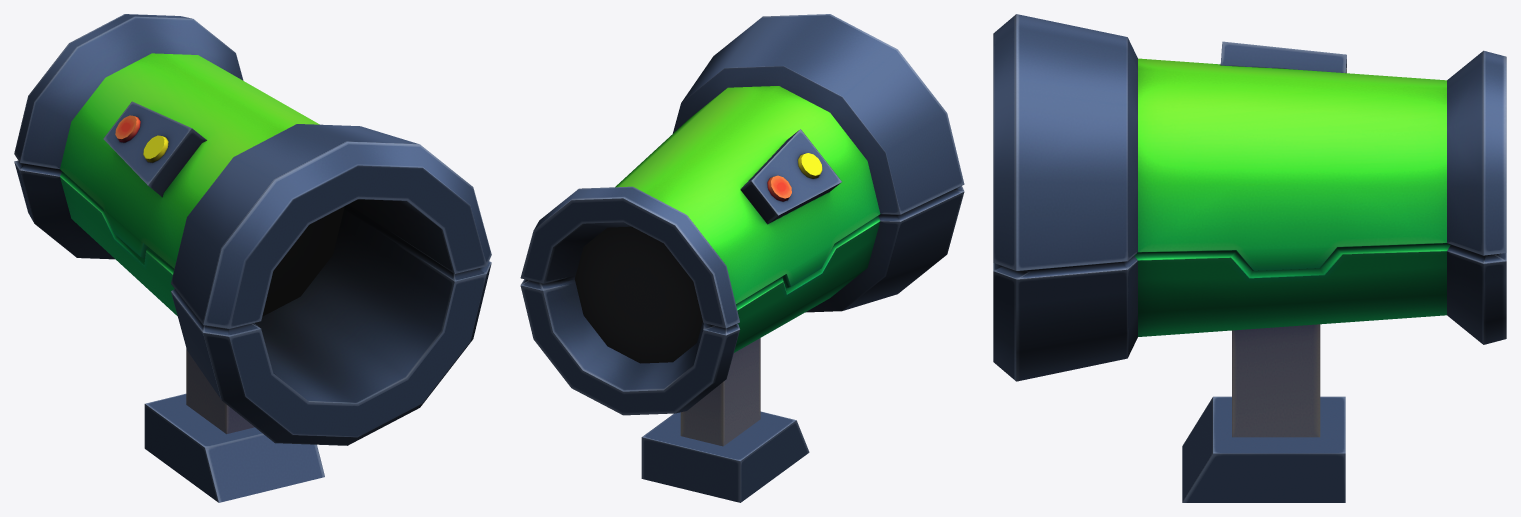
Rendered from upper_rocketlaucher.fbx.
3 views of the same model, side by side, from view 1: azimuth 30°, elevation 25°; view 2: azimuth 150°, elevation 25°; view 3: azimuth 270°, elevation 25° (orthographic). The views are drawn at different scales.
Visible parts, largest first — view 1: Cube.041, Cube.040; view 2: Cube.041, Cube.040; view 3: Cube.041, Cube.040.
Part boxes in pixels (bbox=[...]): Cube.041: bbox=[14, 14, 491, 445]; Cube.040: bbox=[144, 393, 324, 502]; Cube.041: bbox=[520, 14, 964, 446]; Cube.040: bbox=[641, 411, 809, 502]; Cube.041: bbox=[993, 14, 1506, 437]; Cube.040: bbox=[1182, 396, 1345, 502].
Size of the model in its own units: 85.01 by 114 by 119.
